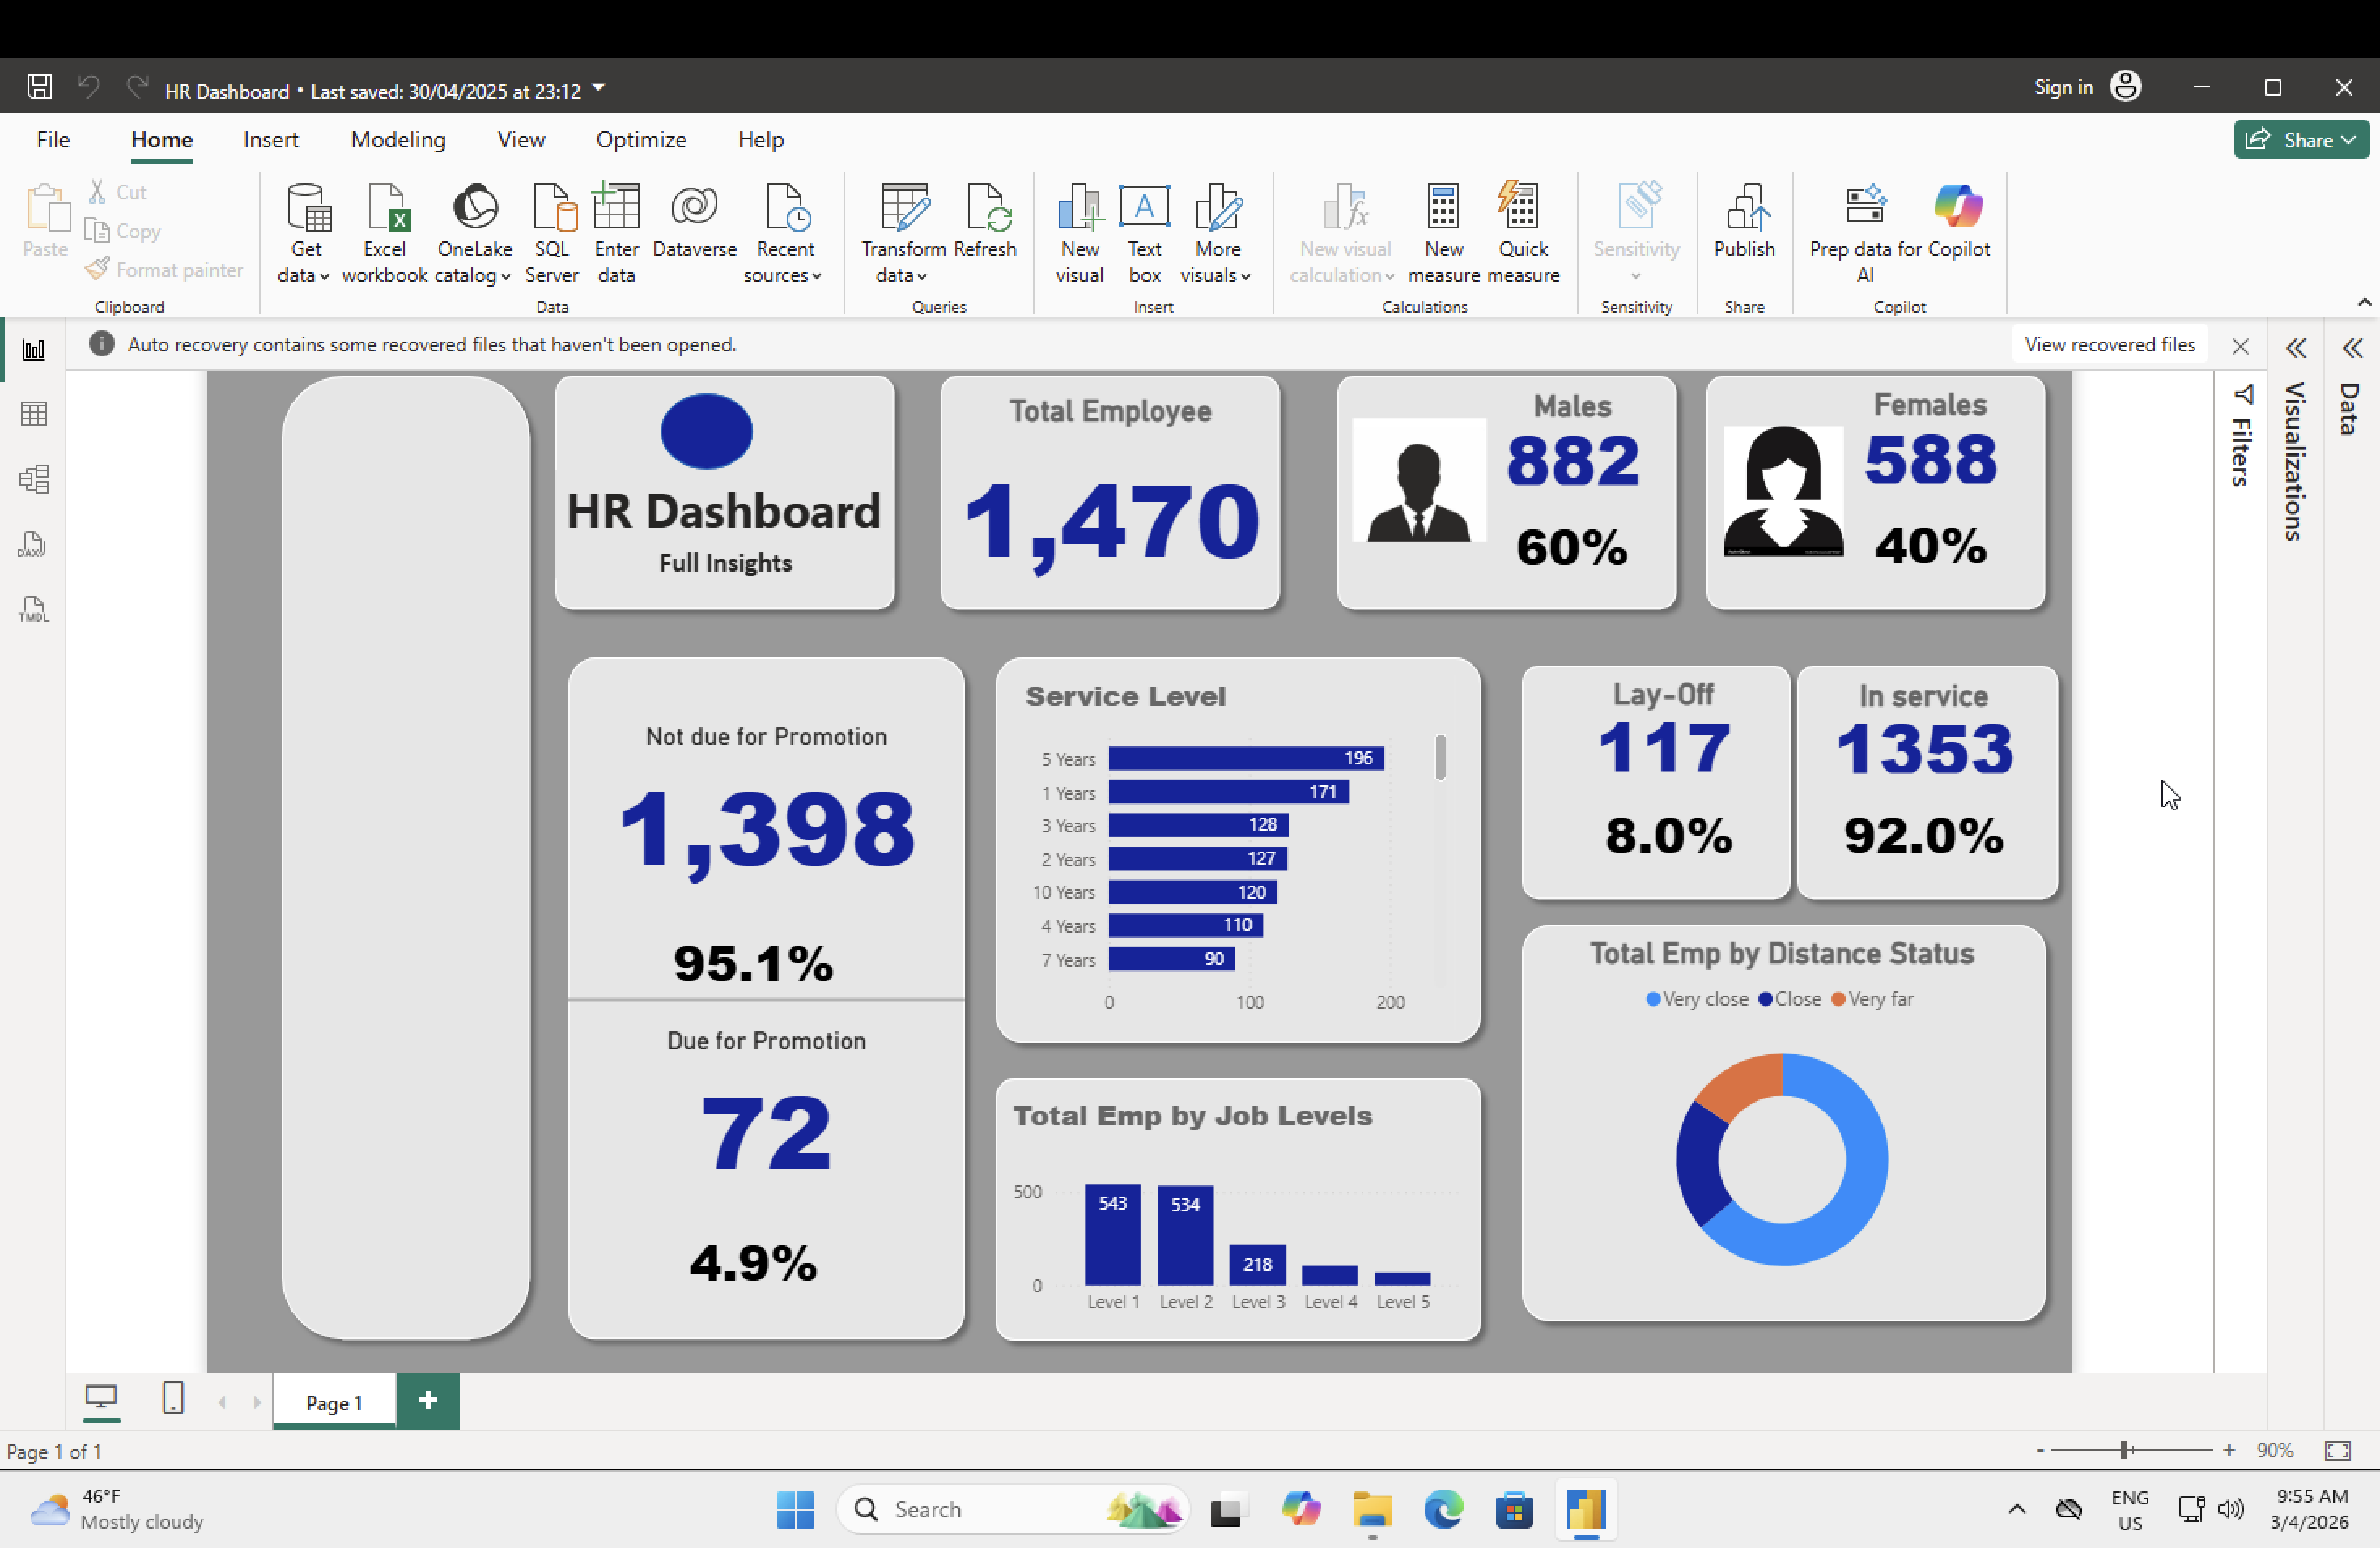

Layout of this report page (visuals, bound fields, positions):
{"tool":"powerbi","page":{"name":"Page 1","canvas":[1280,720],"ordinal":0},"visuals":[{"type":"shape","box":[42,20.4,188.3,679.3],"z":0},{"type":"shape","box":[230.2,20.4,250.6,178.1],"z":1000},{"type":"shape","box":[494.8,20.4,250.6,178.1],"z":2000},{"type":"shape","box":[767.1,20.4,250.6,178.1],"z":3000},{"type":"shape","box":[1020.2,20.4,250.6,178.1],"z":4000},{"type":"shape","box":[239.2,213.7,290,485.9],"z":5000},{"type":"shape","box":[531.7,213.7,351.1,282.4],"z":6000},{"type":"shape","box":[893,396.9,377.8,290],"z":8000},{"type":"shape","box":[893,218.8,202.3,178.1],"z":9000},{"type":"shape","box":[1082.5,218.8,197.2,178.1],"z":10000},{"type":"textbox","box":[239.2,92.9,231.5,75.1],"z":11000},{"type":"textbox","box":[262,139.9,187,42],"z":12000},{"type":"card","title":"Total Employee","fields":{"Values":["All Measures.Total Emp"]},"box":[507.6,40.7,225.2,141.2],"z":13000},{"type":"shape","box":[311.7,40.7,63.6,52.2],"z":14000},{"type":"card","title":"Males","fields":{"Values":["All Measures.Male"]},"box":[873.9,38.2,125.9,71.2],"z":15000},{"type":"card","title":"Males","fields":{"Values":["All Measures.% male"]},"box":[868.8,109.4,136.1,75.1],"z":16000},{"type":"card","title":"Females","fields":{"Values":["All Measures.Female"]},"box":[1120.5,36.7,125.9,71.2],"z":17000},{"type":"card","title":"Males","fields":{"Values":["All Measures.% female"]},"box":[1115.4,108,136.1,75.1],"z":18000},{"type":"image","box":[781.1,40.7,101.8,118.3],"z":19000},{"type":"image","box":[1031.7,58.5,101.8,99.2],"z":20000},{"type":"card","title":"Not due for Promotion","fields":{"Values":["All Measures.% Due for Promotion"]},"box":[279.9,591.5,190.8,91.6],"z":21000},{"type":"card","title":"Not due for Promotion","fields":{"Values":["All Measures.Not due for Promotion"]},"box":[273.5,267.1,221.3,115.8],"z":22000},{"type":"card","title":"Not due for Promotion","fields":{"Values":["All Measures.% Not due for Promotion"]},"box":[279.9,385.4,190.8,91.6],"z":23000},{"type":"card","title":"Due for Promotion","fields":{"Values":["All Measures.Due for promotion"]},"box":[273.5,475.8,221.3,115.8],"z":24000},{"type":"shape","box":[248.1,307.8,272.2,298.9],"z":25000},{"type":"barChart","title":"Service Level","fields":{"Category":["HR Analytics Data.Service Year"],"Y":["All Measures.Total Emp"]},"box":[557.2,234.1,298.9,243],"z":26000},{"type":"shape","box":[532.3,501.7,351.1,197.9],"z":27001},{"type":"columnChart","fields":{"Category":["HR Analytics Data.Job Levels"],"Y":["All Measures.Total Emp"]},"box":[547.7,522.1,317.9,160.9],"z":27501},{"type":"card","title":"In service","fields":{"Values":["All Measures.In Service"]},"box":[1104.3,236.2,148.1,70.2],"z":27502},{"type":"card","title":"Males","fields":{"Values":["All Measures.% In Service"]},"box":[1104.3,306.4,148.1,75.3],"z":27503},{"type":"card","title":"Lay-Off","fields":{"Values":["All Measures.Lay-Off"]},"box":[925.3,236,148.1,70.2],"z":27504},{"type":"card","title":"Males","fields":{"Values":["All Measures.% Lay-Off"]},"box":[935,306.7,136.1,75.1],"z":27505},{"type":"donutChart","fields":{"Category":["HR Analytics Data.Distance Status"],"Y":["All Measures.Total Emp"]},"box":[914,413.6,333.2,255.3],"z":27506}]}

Visuals, with their boxes on the page's 1280x720 design canvas (x1, y1, x2, y2). These are canvas units, not pixel positions in the 2380x1548 screenshot, which may show the page scaled, cropped or inside an application window:
shape: [x1=42, y1=20, x2=230, y2=700]
shape: [x1=230, y1=20, x2=481, y2=198]
shape: [x1=495, y1=20, x2=745, y2=198]
shape: [x1=767, y1=20, x2=1018, y2=198]
shape: [x1=1020, y1=20, x2=1271, y2=198]
shape: [x1=239, y1=214, x2=529, y2=700]
shape: [x1=532, y1=214, x2=883, y2=496]
shape: [x1=893, y1=397, x2=1271, y2=687]
shape: [x1=893, y1=219, x2=1095, y2=397]
shape: [x1=1082, y1=219, x2=1280, y2=397]
textbox: [x1=239, y1=93, x2=471, y2=168]
textbox: [x1=262, y1=140, x2=449, y2=182]
"Total Employee" card: [x1=508, y1=41, x2=733, y2=182]
shape: [x1=312, y1=41, x2=375, y2=93]
"Males" card: [x1=874, y1=38, x2=1000, y2=109]
"Males" card: [x1=869, y1=109, x2=1005, y2=184]
"Females" card: [x1=1120, y1=37, x2=1246, y2=108]
"Males" card: [x1=1115, y1=108, x2=1252, y2=183]
image: [x1=781, y1=41, x2=883, y2=159]
image: [x1=1032, y1=58, x2=1134, y2=158]
"Not due for Promotion" card: [x1=280, y1=592, x2=471, y2=683]
"Not due for Promotion" card: [x1=274, y1=267, x2=495, y2=383]
"Not due for Promotion" card: [x1=280, y1=385, x2=471, y2=477]
"Due for Promotion" card: [x1=274, y1=476, x2=495, y2=592]
shape: [x1=248, y1=308, x2=520, y2=607]
"Service Level" barChart: [x1=557, y1=234, x2=856, y2=477]
shape: [x1=532, y1=502, x2=883, y2=700]
columnChart - HR Analytics Data.Job Levels x All Measures.Total Emp: [x1=548, y1=522, x2=866, y2=683]
"In service" card: [x1=1104, y1=236, x2=1252, y2=306]
"Males" card: [x1=1104, y1=306, x2=1252, y2=382]
"Lay-Off" card: [x1=925, y1=236, x2=1073, y2=306]
"Males" card: [x1=935, y1=307, x2=1071, y2=382]
donutChart - HR Analytics Data.Distance Status x All Measures.Total Emp: [x1=914, y1=414, x2=1247, y2=669]
